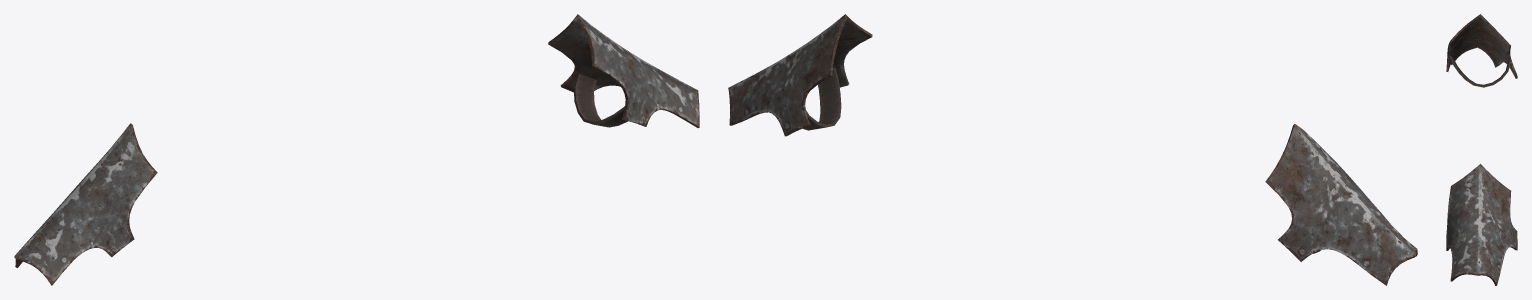
File: sk_gb_uruk_bracer_med_a.fbx
3 views of the same model, side by side, from view 1: azimuth 30°, elevation 25°; view 2: azimuth 150°, elevation 25°; view 3: azimuth 270°, elevation 25° (orthographic). The views are drawn at different scales.
Parts seen in each view (by area): view 1: sk_gb_uruk_bracer_med_a; view 2: sk_gb_uruk_bracer_med_a; view 3: sk_gb_uruk_bracer_med_a.
Part boxes in pixels (x1,y1,x2,y2): sk_gb_uruk_bracer_med_a: (14,14,699,285); sk_gb_uruk_bracer_med_a: (728,14,1417,285); sk_gb_uruk_bracer_med_a: (1446,14,1517,285).
Size of the model in its own units: 1.39 by 0.1832 by 0.2494.
1 material, 1 textured.
